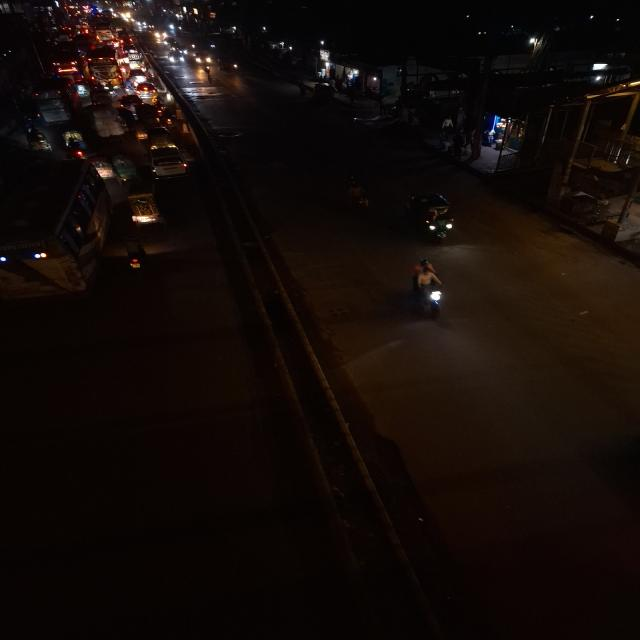bus: (0, 139, 113, 301), (85, 54, 120, 82)
car: (144, 144, 191, 182), (118, 92, 143, 114)
cng: (399, 190, 466, 244), (29, 79, 72, 125), (60, 124, 89, 158), (154, 106, 178, 130), (148, 125, 171, 148)
motorcycle: (406, 255, 454, 323), (341, 175, 375, 217), (120, 236, 148, 274)
pickup_van: (86, 104, 128, 140)
rickshaw: (122, 181, 167, 230), (86, 104, 127, 140)
